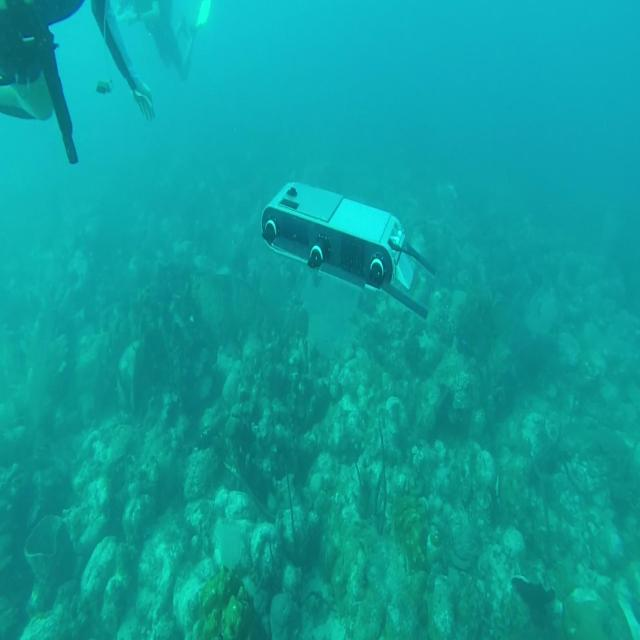human: (0, 0, 155, 164), (90, 0, 210, 121)
